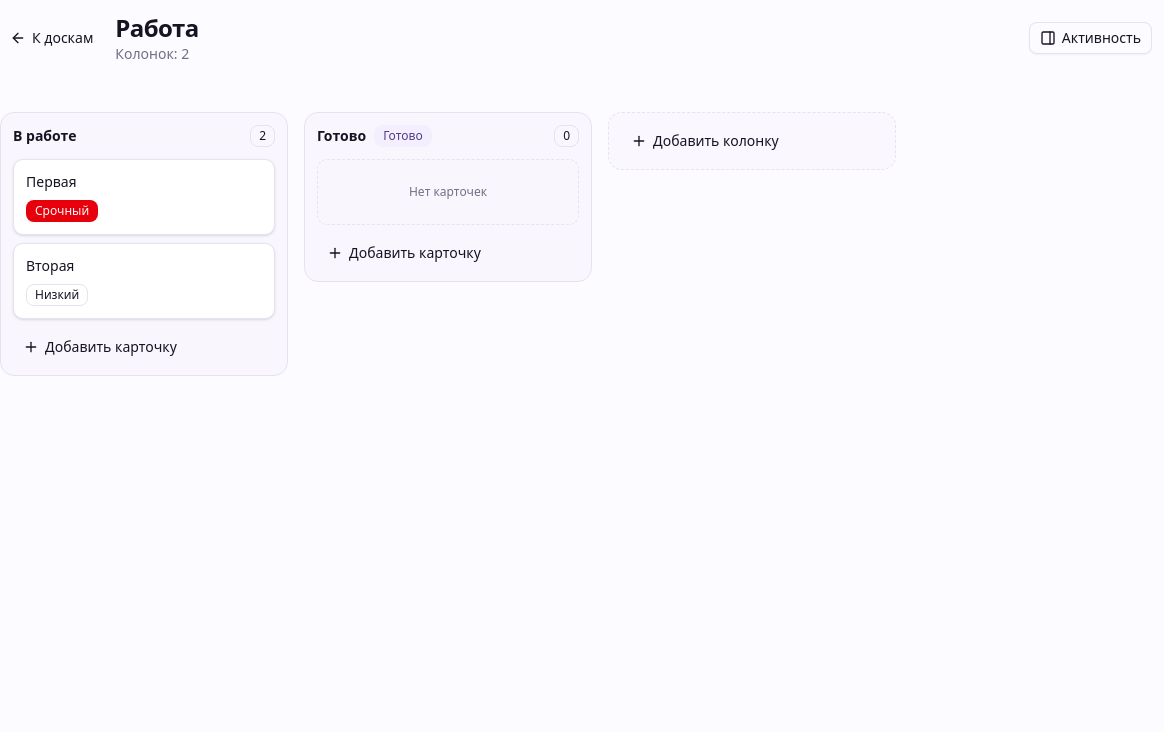
Test case: BoardPage › reveals the activity panel on demand
Check: the heading "Работа" is shown, box [115, 12, 199, 44]
Click the button "Активность": click(1090, 38) [1029, 22, 1152, 54]
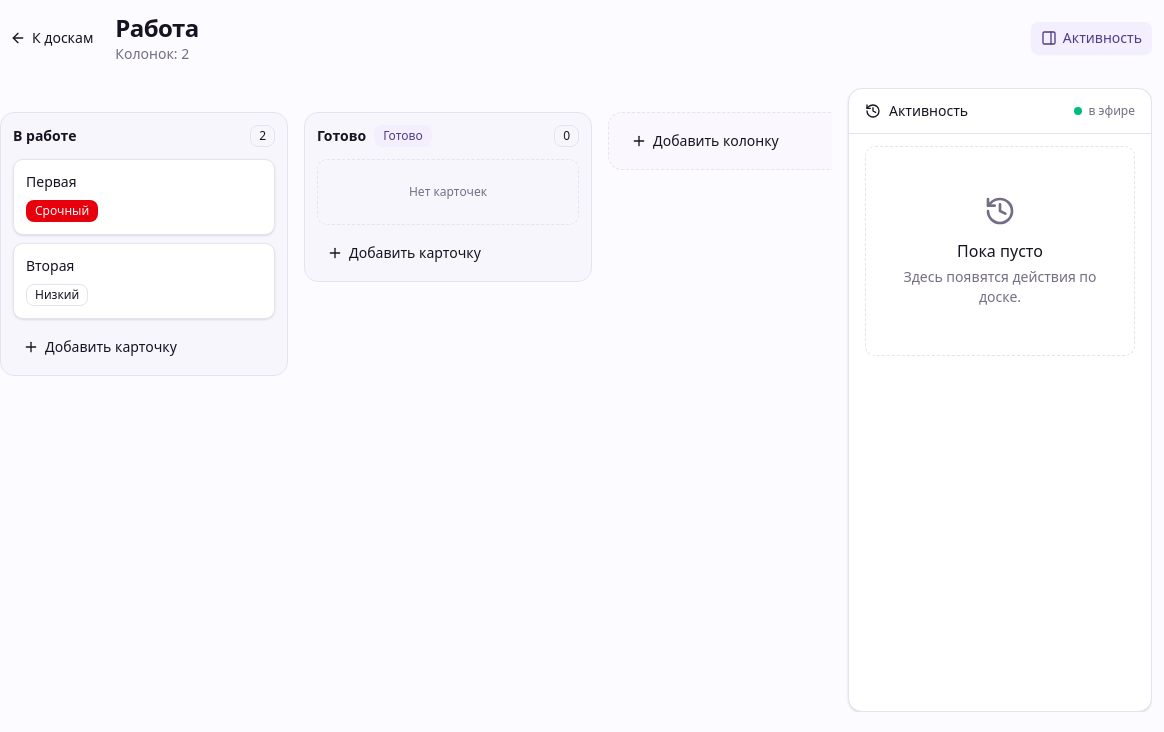
Check: the text "Пока пусто" is shown, box [957, 240, 1043, 262]
